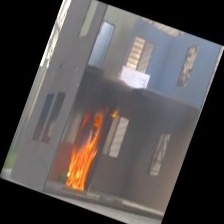fire: (50, 105, 118, 198)
